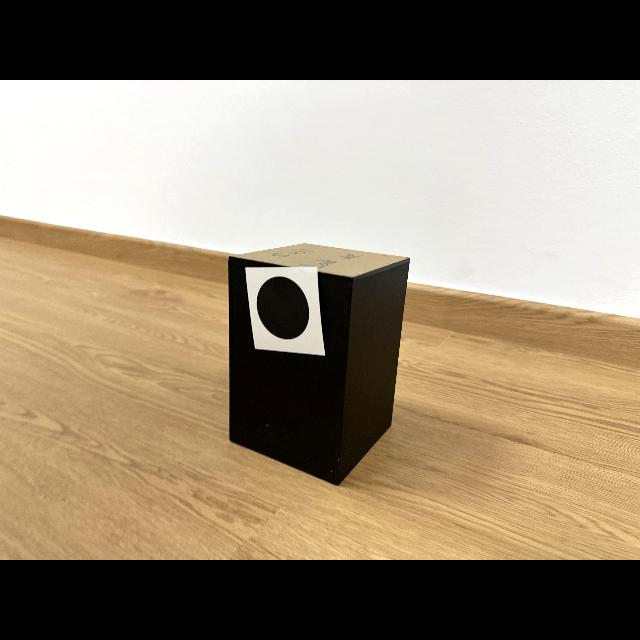CIRCLE: (258, 276, 309, 339)
